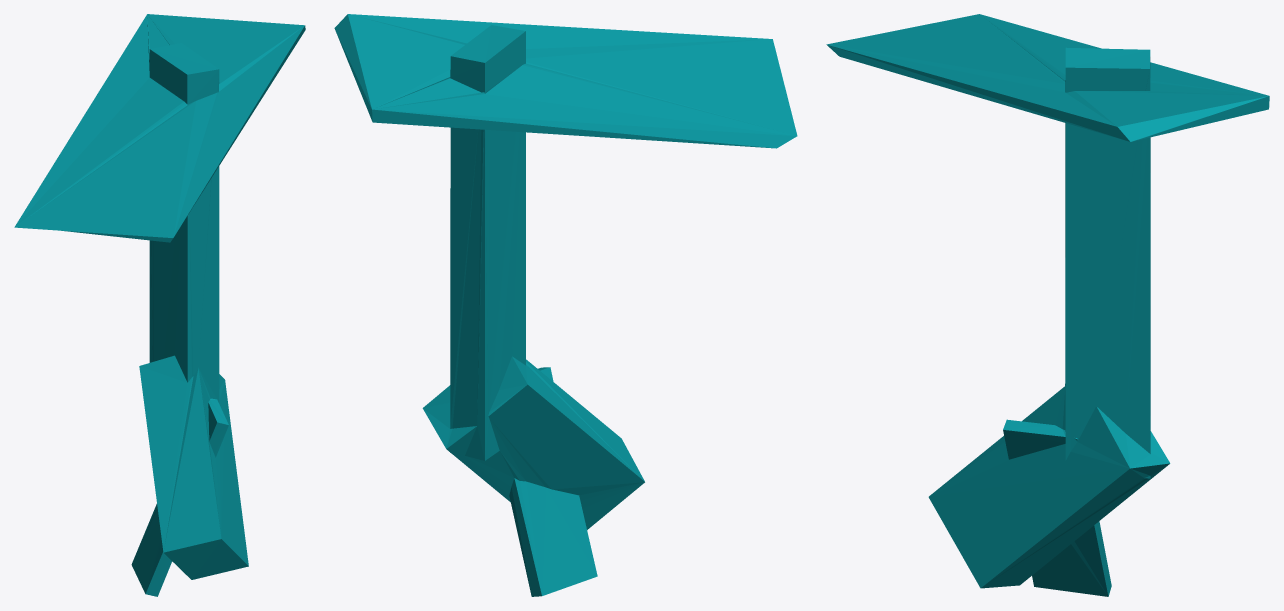
3 views of the same model, side by side, from view 1: azimuth 30°, elevation 25°; view 2: azimuth 150°, elevation 25°; view 3: azimuth 270°, elevation 25° (orthographic). The views are drawn at different scales.
Parts seen in each view (by area): view 1: 100_Cube.420; view 2: 100_Cube.420; view 3: 100_Cube.420.
Part boxes in pixels (x1,y1,x2,y2): 100_Cube.420: (14, 14, 305, 596); 100_Cube.420: (334, 14, 797, 596); 100_Cube.420: (826, 14, 1269, 596).
Size of the model in its own units: 12.35 by 16.49 by 11.77.
